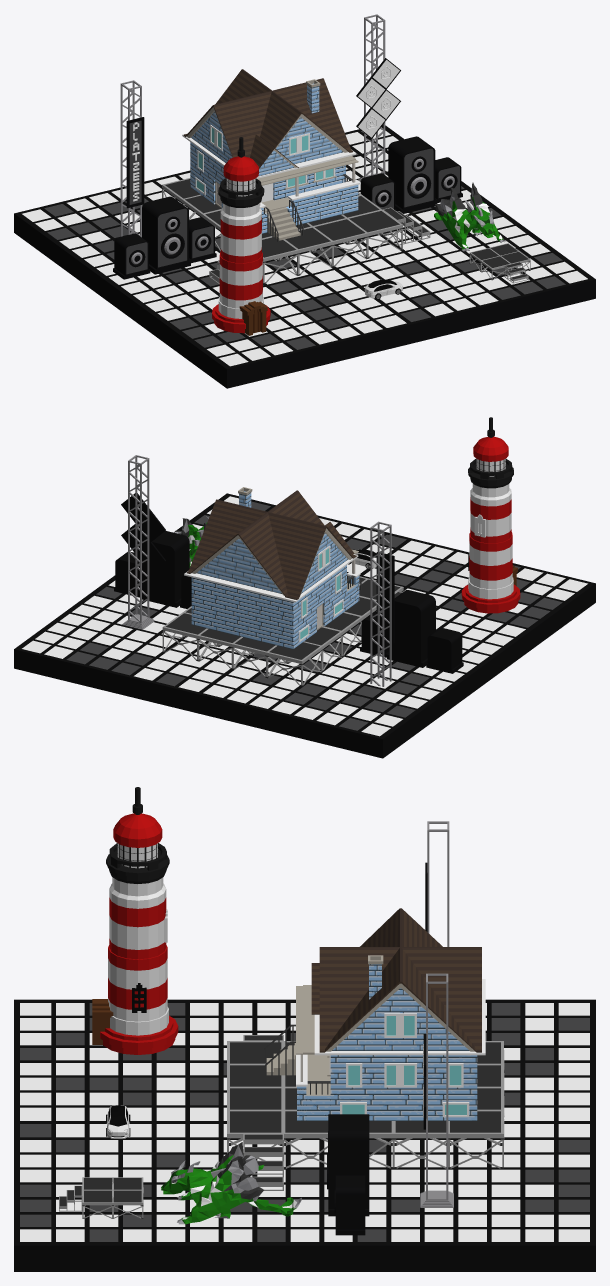
The picture shows the model from 3 angles, top to bottom: view 1: azimuth 30°, elevation 25°; view 2: azimuth 150°, elevation 25°; view 3: azimuth 270°, elevation 25°; orthographic projection. The views are drawn at different scales.
Visible parts, largest first — view 1: Cube.008, Cube.547, OBJRANDOM_LIGHTHOUSE, ANIMAL_DRAGON, VEHICLES_TESLA; view 2: Cube.008, Cube.547, OBJRANDOM_LIGHTHOUSE, ANIMAL_DRAGON; view 3: Cube.008, Cube.547, OBJRANDOM_LIGHTHOUSE, ANIMAL_DRAGON, VEHICLES_TESLA.
Part boxes in pixels (<box>): Cube.008: <box>14,14,595,388</box>; Cube.547: <box>182,69,360,241</box>; OBJRANDOM_LIGHTHOUSE: <box>212,137,270,335</box>; ANIMAL_DRAGON: <box>434,182,505,251</box>; VEHICLES_TESLA: <box>364,279,403,299</box>; Cube.008: <box>14,455,595,758</box>; Cube.547: <box>184,487,361,649</box>; OBJRANDOM_LIGHTHOUSE: <box>461,417,520,613</box>; ANIMAL_DRAGON: <box>174,516,208,567</box>; Cube.008: <box>14,821,595,1271</box>; Cube.547: <box>264,908,485,1120</box>; OBJRANDOM_LIGHTHOUSE: <box>92,787,178,1054</box>; ANIMAL_DRAGON: <box>161,1142,301,1224</box>; VEHICLES_TESLA: <box>106,1105,130,1138</box>.
Size of the model in its own units: 4000 by 2156 by 4000.
Materials: 39 (2 with a texture image).
